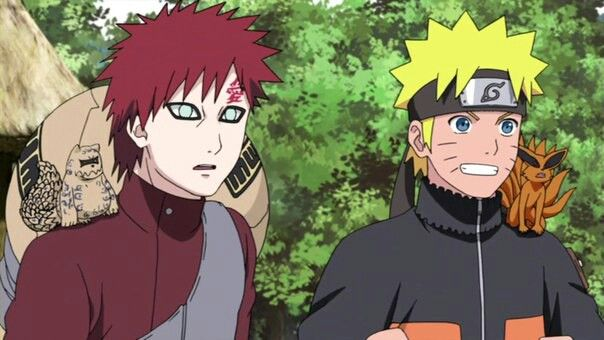gaara: (124, 57, 254, 198)
naruto: (405, 68, 531, 202)
